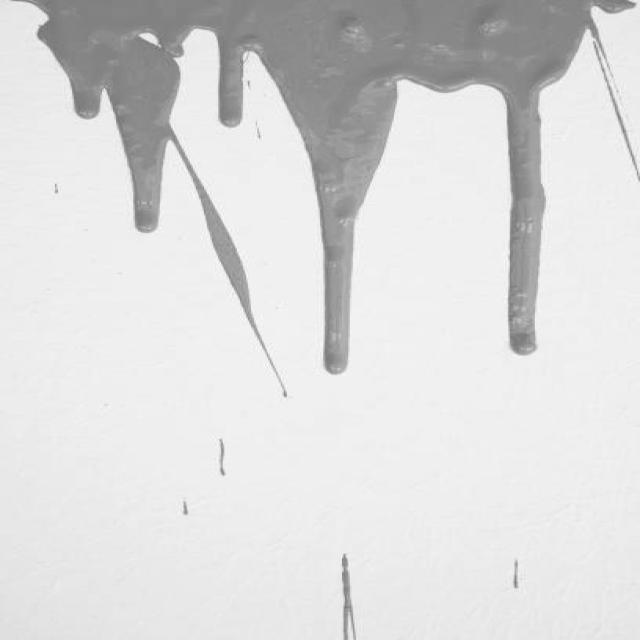paint drips: (43, 18, 602, 380), (313, 542, 382, 640), (500, 549, 533, 602), (172, 496, 200, 530), (214, 433, 233, 476)
